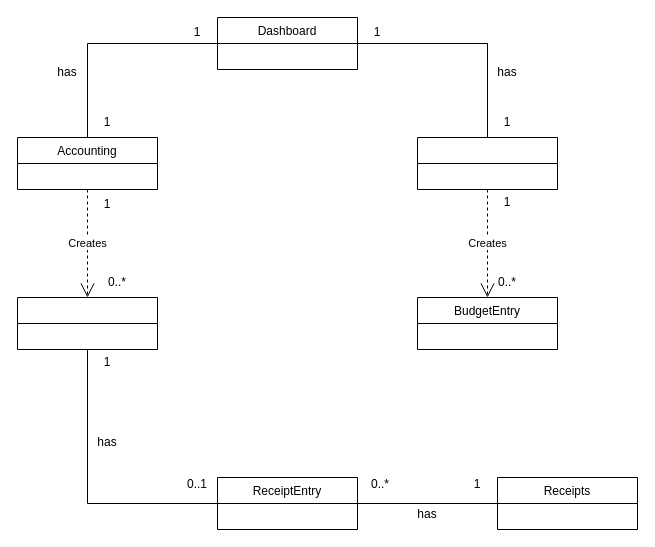
Some shapes in this 655 by 547 pixel diagram are drawn without their labels. The shapes that lost their labels are listed below. From the top down, each one's centre as x and y in pixels, then its label:
At (487,163): "Budget".
At (87,323): "AccountingEntry".
